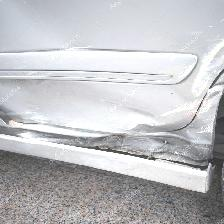door_dent: (3, 75, 211, 174)
